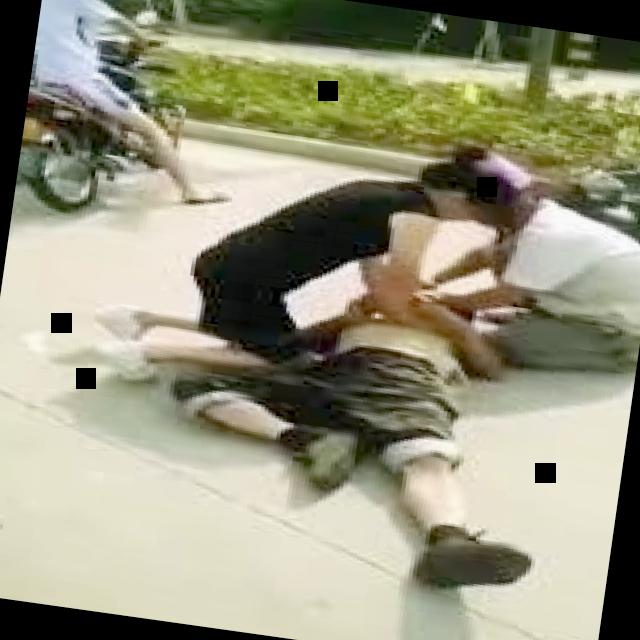Fall-Detected: (144, 218, 576, 600)
